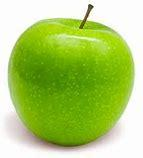apple: (5, 15, 135, 146)
